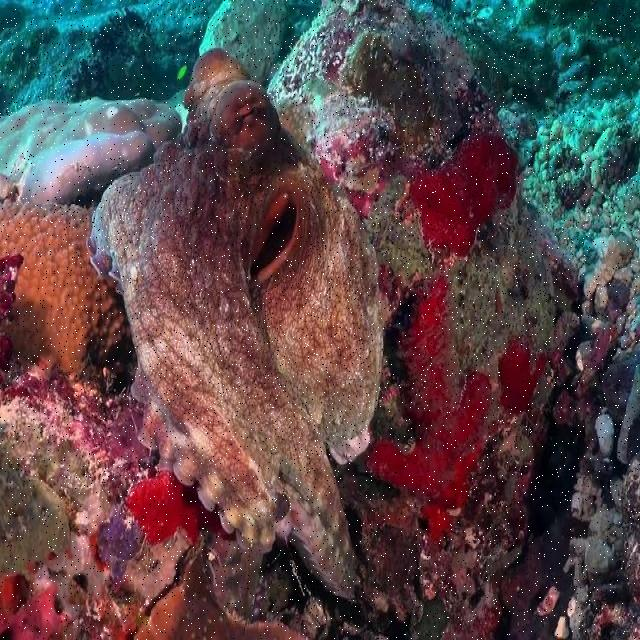reefs: (86, 44, 385, 600), (362, 271, 549, 548), (0, 199, 127, 379), (0, 96, 183, 205), (395, 130, 521, 266)
